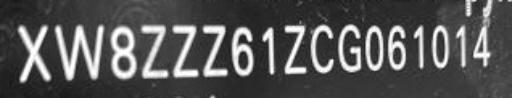letter: (52, 22, 106, 82), (14, 22, 54, 82), (138, 20, 170, 80), (169, 22, 201, 80), (199, 20, 229, 78), (108, 22, 138, 80), (282, 22, 310, 76), (228, 24, 256, 78), (308, 22, 336, 74), (335, 22, 363, 74), (384, 22, 410, 72), (362, 23, 386, 73), (470, 24, 494, 69), (430, 22, 452, 70), (258, 24, 278, 76), (452, 22, 470, 70), (410, 22, 426, 70)
